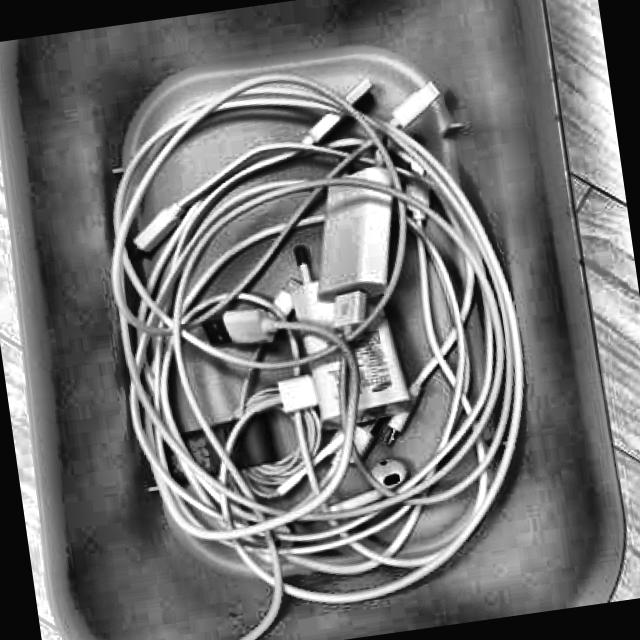Cable: (65, 39, 563, 640)
